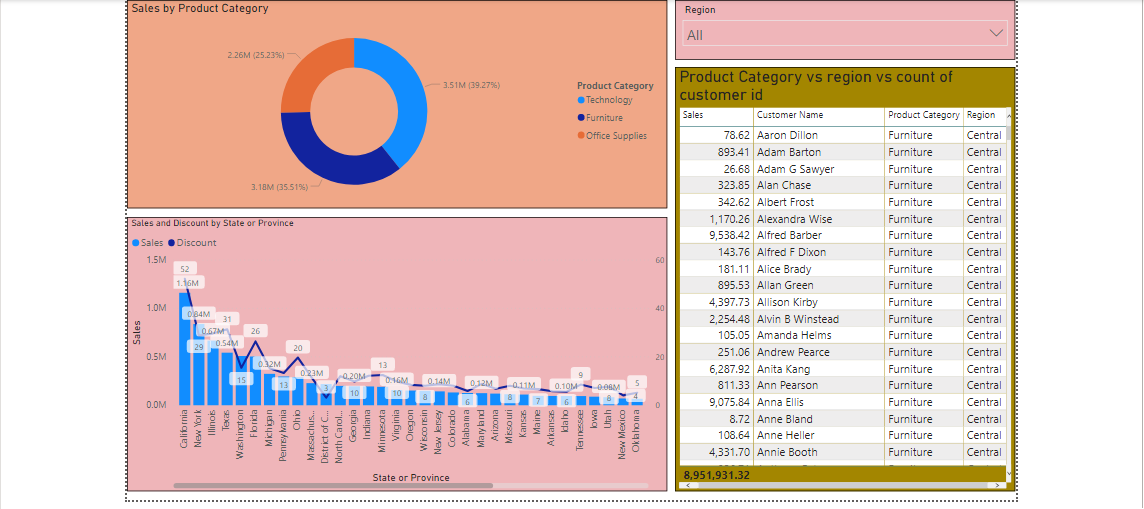

The page's visual inventory and layout, read from the dashboard file:
{"tool":"powerbi","page":{"name":"Sales_report","canvas":[1280,720],"ordinal":0},"visuals":[{"type":"tableEx","title":"Product Category vs region vs count of customer id","fields":{"Values":["Orders.Sales","Orders.Customer Name","Orders.Product Category","Orders.Region"]},"box":[789.8,97,490.2,611.1],"z":0},{"type":"lineClusteredColumnComboChart","fields":{"Category":["Orders.State or Province"],"Y":["Orders.Sales"],"Y2":["Orders.Discount"]},"box":[0,313.2,777.9,394.9],"z":1},{"type":"donutChart","fields":{"Y":["Orders.Sales"],"Category":["Orders.Product Category"]},"box":[0,0,777.9,299.6],"z":2},{"type":"slicer","fields":{"Values":["Orders.Region"]},"box":[789.1,0,489.6,86.4],"z":3}]}

Visuals, with their boxes in screenshot pixels (x1, y1, x2, y2):
"Product Category vs region vs count of customer id" tableEx: 673 65 1015 491
lineClusteredColumnComboChart - Orders.State or Province x Orders.Sales: 122 216 665 491
donutChart - Orders.Sales x Orders.Product Category: 122 0 665 206
slicer - Orders.Region: 673 0 1014 57
